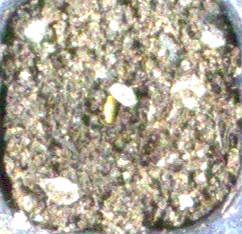pepper seed: (46, 33, 161, 157)
